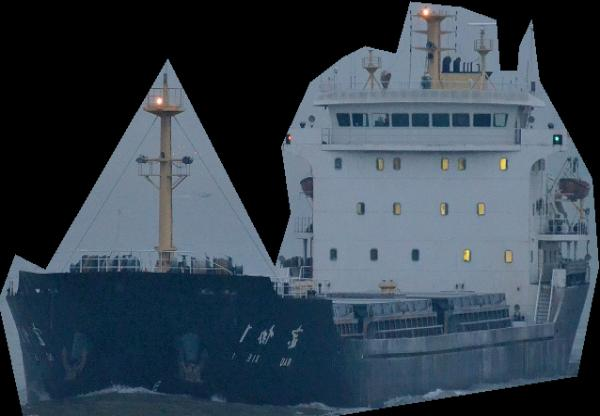Bulkers: (0, 1, 599, 416)
